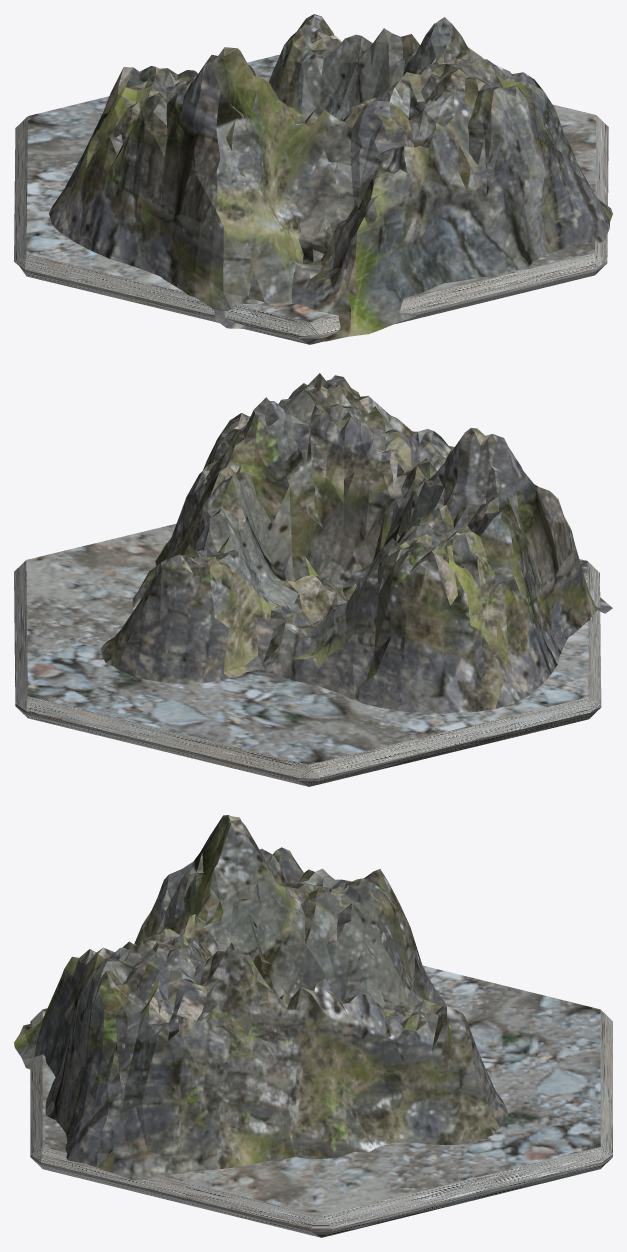
Rendered from hexagonBerg.fbx.
3 views of the same model, one above another, from view 1: azimuth 30°, elevation 25°; view 2: azimuth 150°, elevation 25°; view 3: azimuth 270°, elevation 25° (orthographic).
Parts seen in each view (by area): view 1: Cylinder.001; view 2: Cylinder.001; view 3: Cylinder.001.
Boxes of the visible parts, x1=… form: Cylinder.001: x1=14, y1=14, x2=612, y2=344; Cylinder.001: x1=14, y1=373, x2=612, y2=786; Cylinder.001: x1=14, y1=815, x2=612, y2=1237.
Bounding box in the file's own units: 115 × 41.59 × 103.
2 materials, 2 textured.
